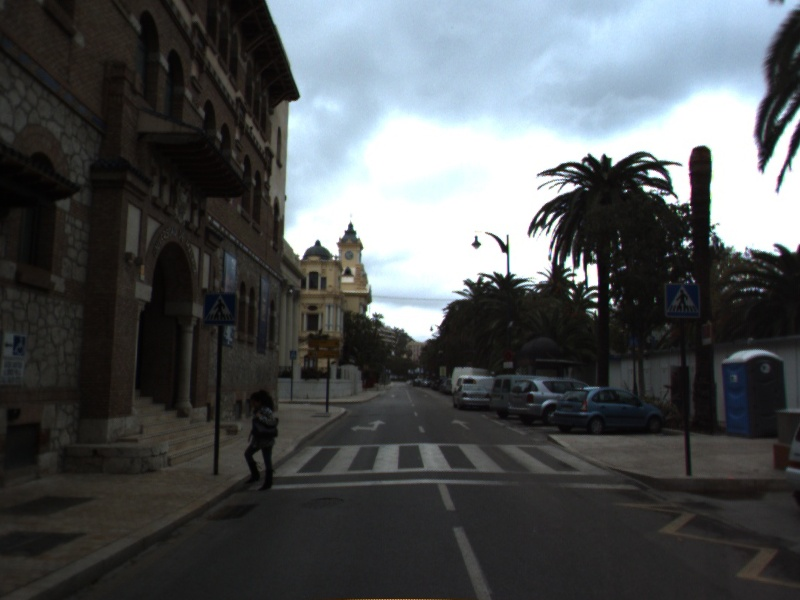STRAIGHT: (449, 417, 472, 432)
STRAIGHT_LEFT: (348, 418, 388, 434)
